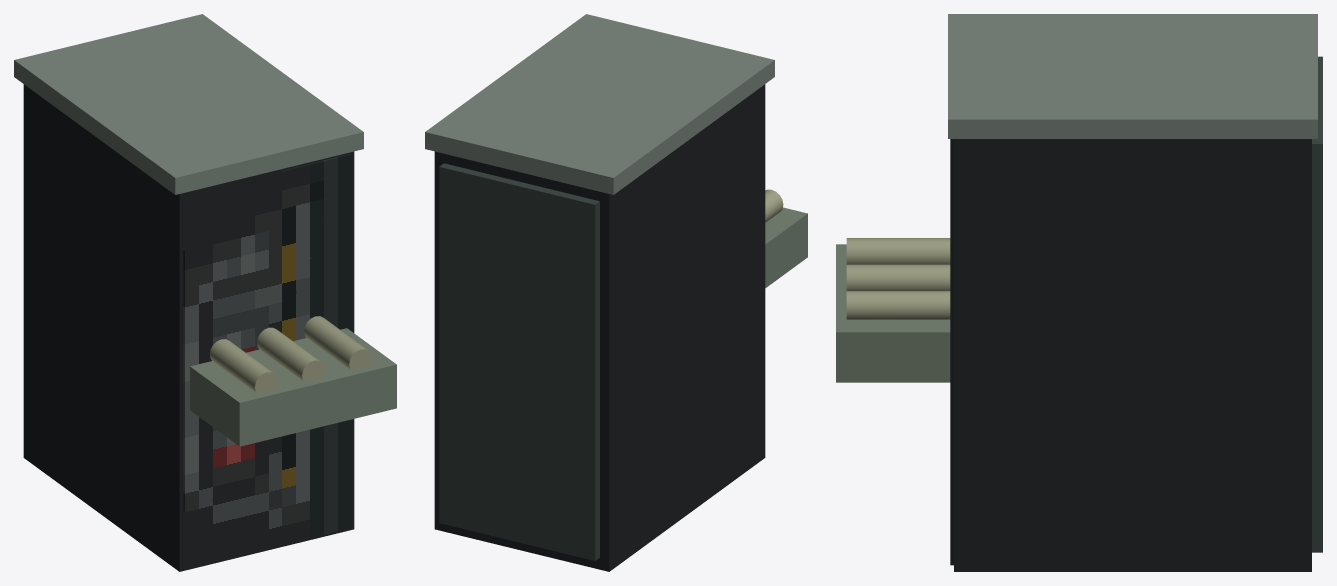
Rendered from CMU3DInteriorCMUBlackfootAmmoLoaderRight.glb.
The picture shows the model from 3 angles, left to right: view 1: azimuth 30°, elevation 25°; view 2: azimuth 150°, elevation 25°; view 3: azimuth 270°, elevation 25°; orthographic projection. The views are drawn at different scales.
Parts seen in each view (by area): view 1: closed equipment casing, source equipment controls, reinforced top, loading tray, feed roller (×3); view 2: closed equipment casing, rear service plate, reinforced top, loading tray; view 3: closed equipment casing, reinforced top, feed roller (×3), loading tray, rear service plate, source equipment controls.
Part boxes in pixels (x1,y1,x2,y2): closed equipment casing: (23,84,354,571); source equipment controls: (183,153,351,547); reinforced top: (14,14,363,194); loading tray: (190,328,396,446); feed roller (×3): (209,316,372,393); closed equipment casing: (434,84,765,571); rear service plate: (439,163,599,560); reinforced top: (425,14,774,194); loading tray: (765,207,807,287); closed equipment casing: (954,139,1311,571); reinforced top: (948,14,1317,138); feed roller (×3): (846,238,950,319); loading tray: (836,244,950,382); rear service plate: (1312,56,1322,552); source equipment controls: (950,139,953,565).
Size of the model in its own units: 0.405 by 0.8163 by 0.7894.
Materials: 6 (1 with a texture image).
